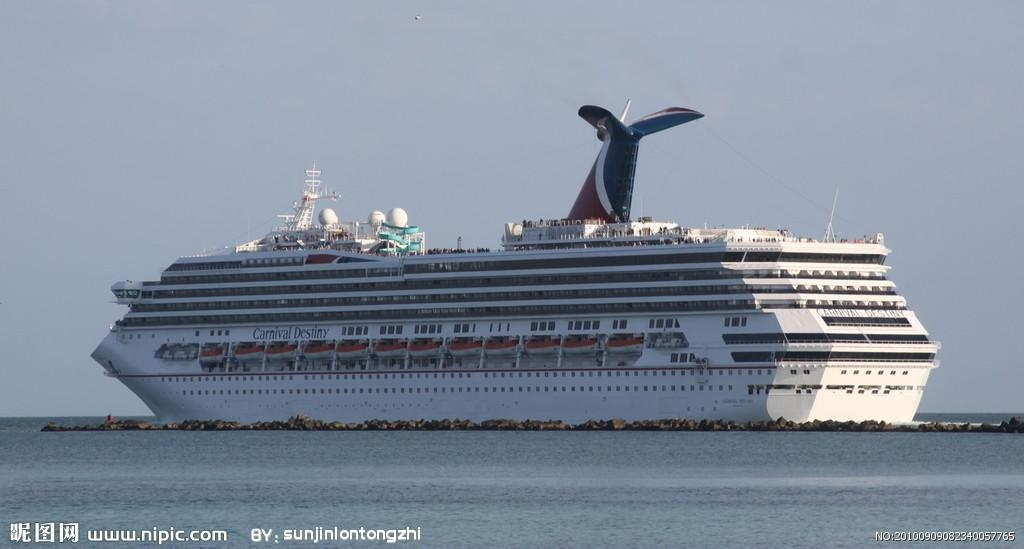youlun: (77, 88, 937, 437)
